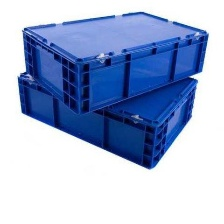plastic_box: (16, 4, 215, 120), (12, 55, 203, 174)
